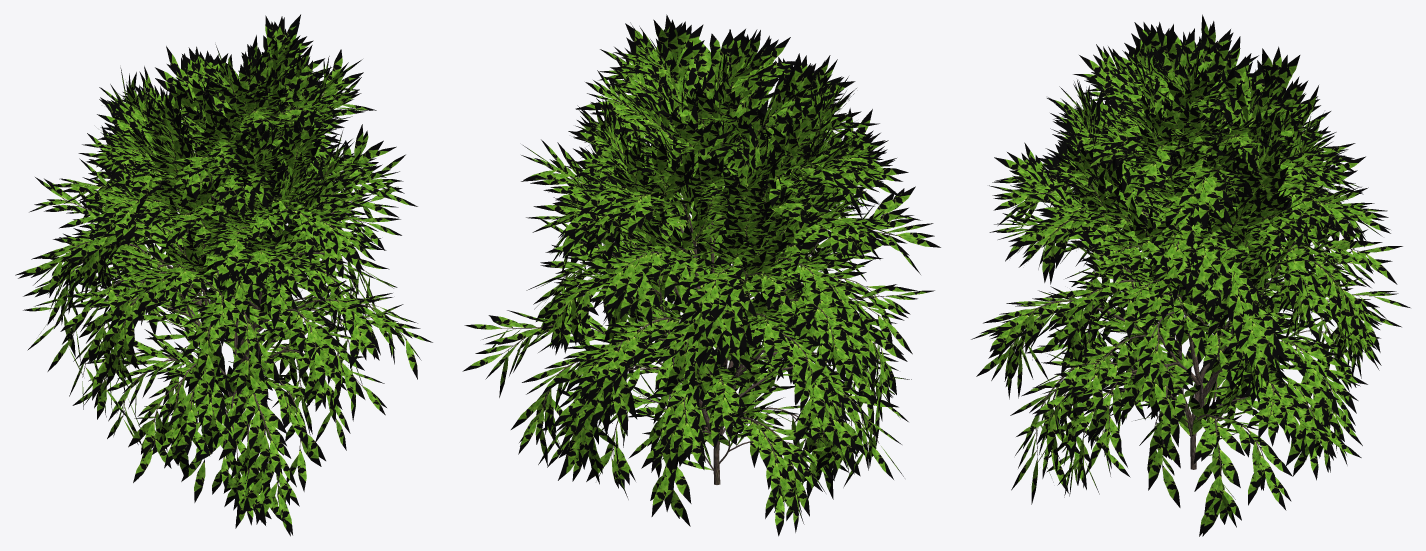
File: arbre2.glb
3 renders of one model, left to right at view 1: azimuth 30°, elevation 25°; view 2: azimuth 150°, elevation 25°; view 3: azimuth 270°, elevation 25°, orthographic. The views are drawn at different scales.
Bounding box in the file's own units: 3.7 × 4.32 × 3.54.
Materials: 2 (2 with a texture image).
